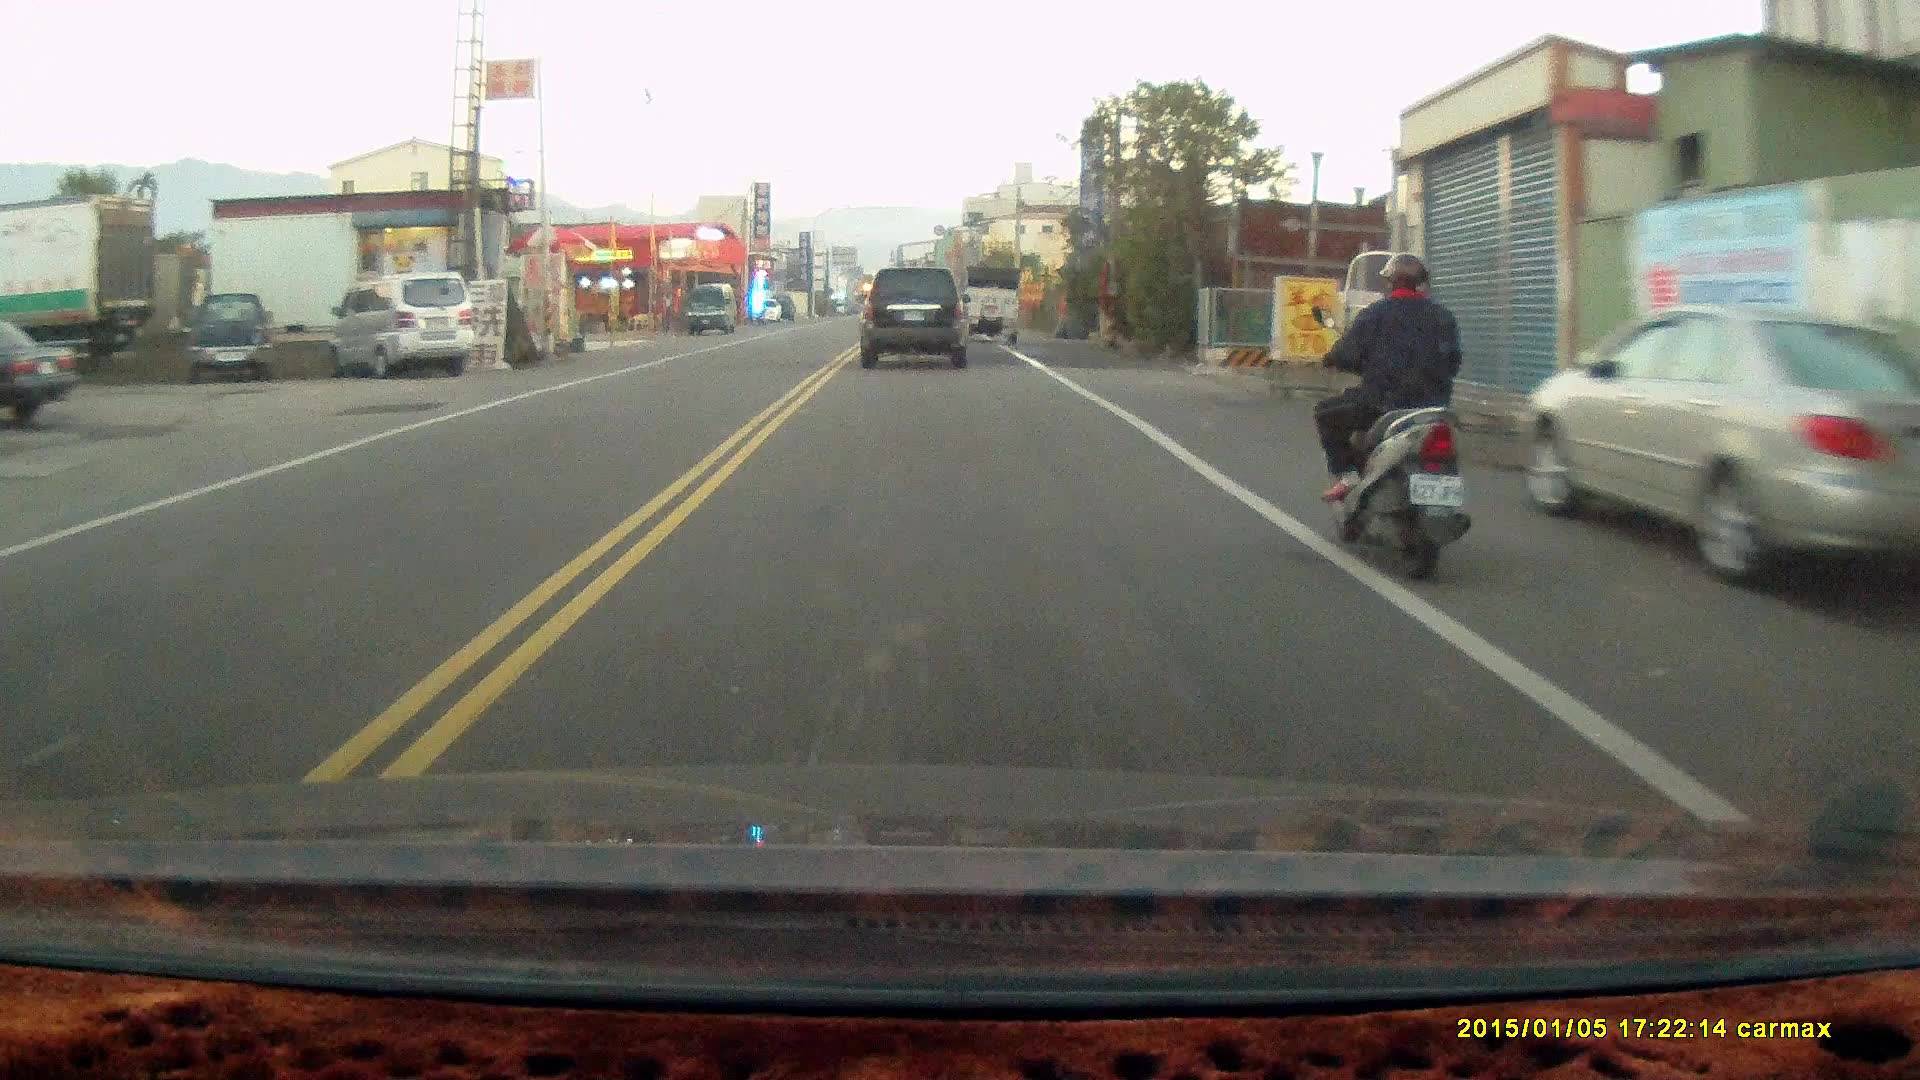rider: (1311, 251, 1472, 586)
vehicle: (1528, 303, 1920, 585), (331, 273, 477, 381), (858, 265, 975, 370), (1, 314, 80, 430), (187, 292, 275, 387), (961, 266, 1023, 344), (685, 283, 739, 334)
